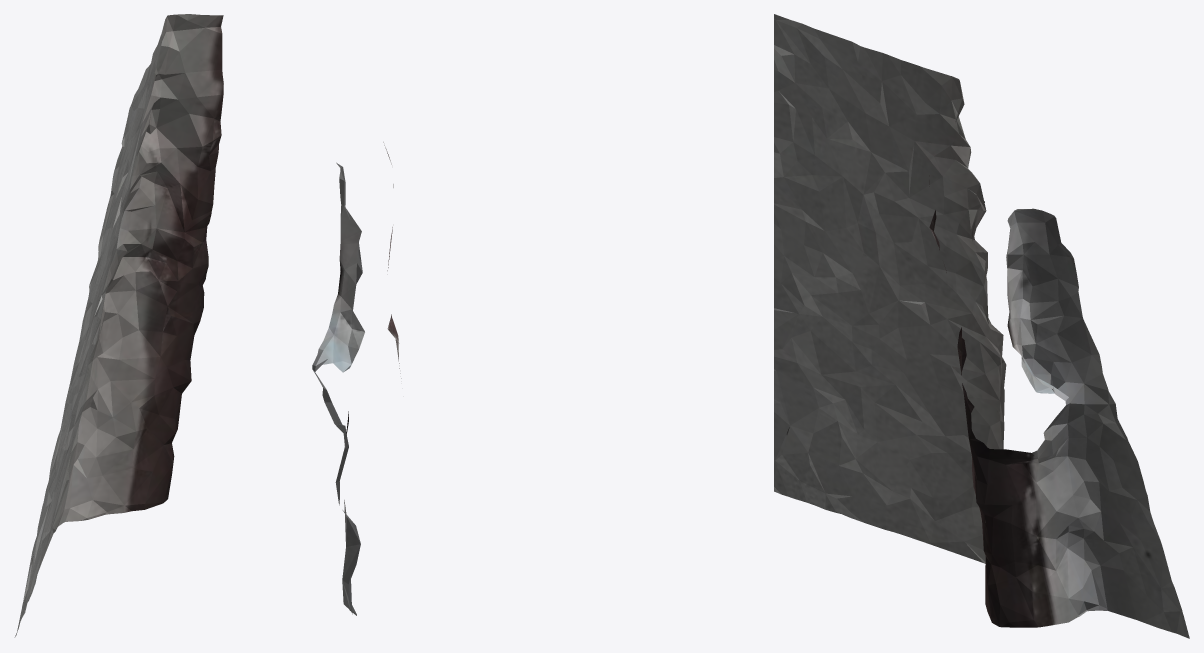
3 views of the same model, side by side, from view 1: azimuth 30°, elevation 25°; view 2: azimuth 150°, elevation 25°; view 3: azimuth 270°, elevation 25° (orthographic). The views are drawn at different scales.
Bounding box in the file's own units: 0.4925 × 0.8374 × 0.5869.
Materials: 2 (2 with a texture image).
